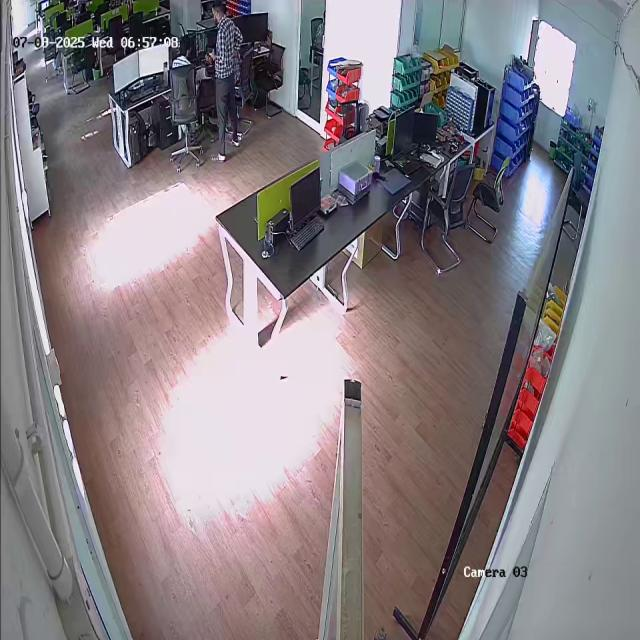person: (211, 2, 242, 166)
